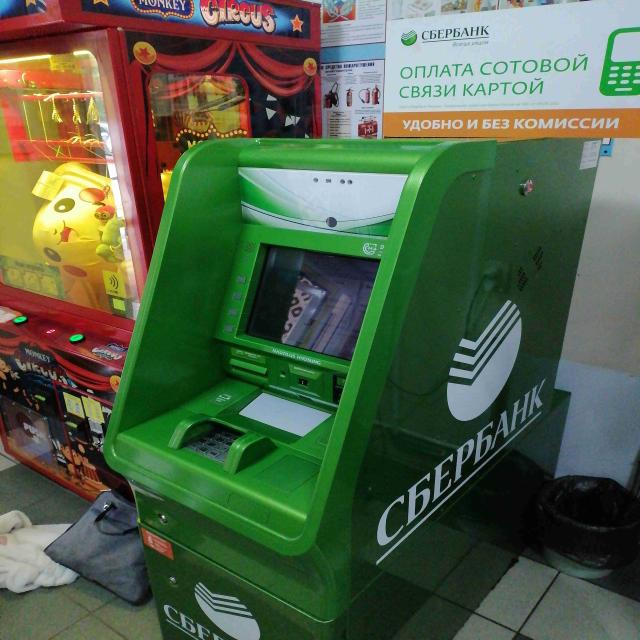bank: (105, 135, 602, 640)
